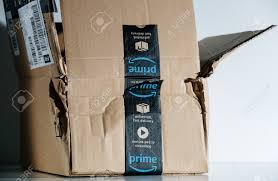damaged package: (181, 27, 277, 140), (40, 7, 75, 155)
